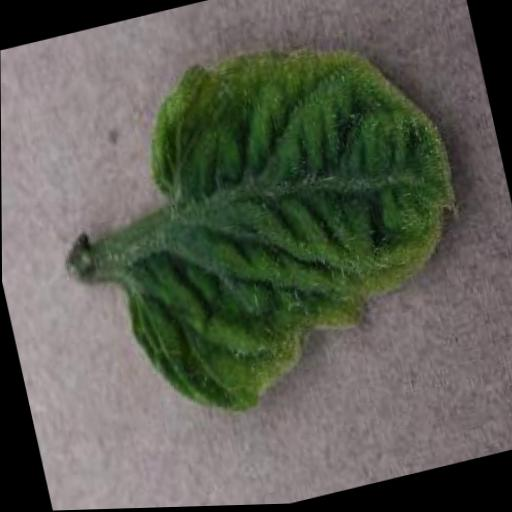Yellow Leaf Curl Virus: (74, 8, 496, 436)
